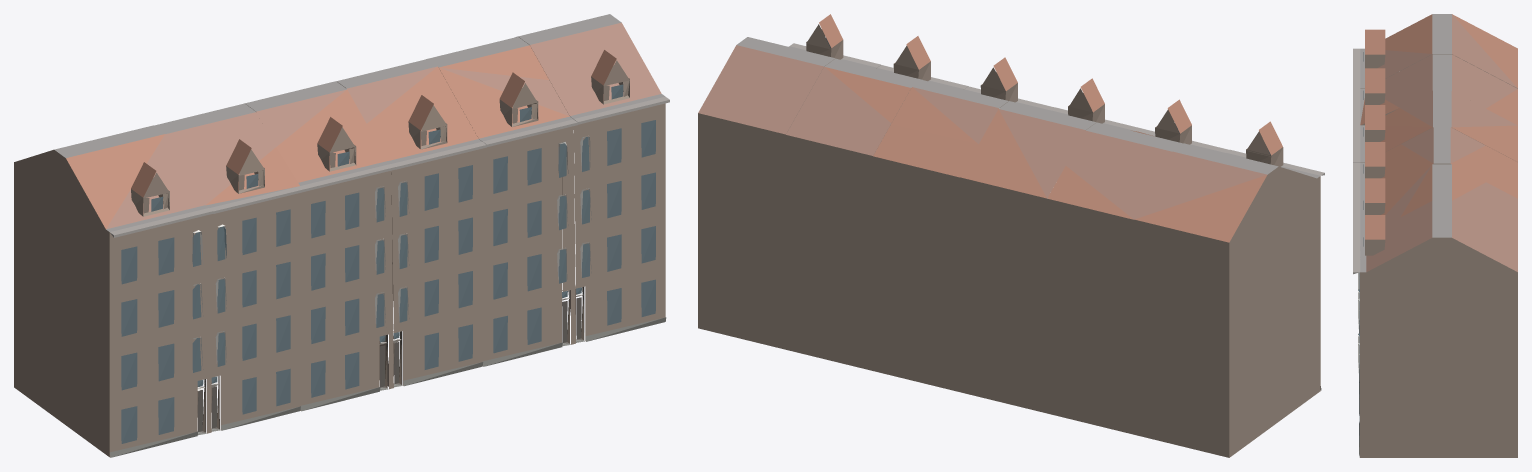
File: chunk-face-soenda-2-36-r1.lod2.glb
3 renders of one model, left to right at view 1: azimuth 30°, elevation 25°; view 2: azimuth 150°, elevation 25°; view 3: azimuth 270°, elevation 25°, orthographic. The views are drawn at different scales.
Visible parts, largest first — view 1: lod2; view 2: lod2; view 3: lod2.
Part boxes in pixels (x1=…): lod2: x1=14, y1=14, x2=669, y2=457; lod2: x1=698, y1=14, x2=1324, y2=457; lod2: x1=1353, y1=14, x2=1517, y2=457.
Bounding box in the file's own units: 33.55 × 15.7 × 10.45.
